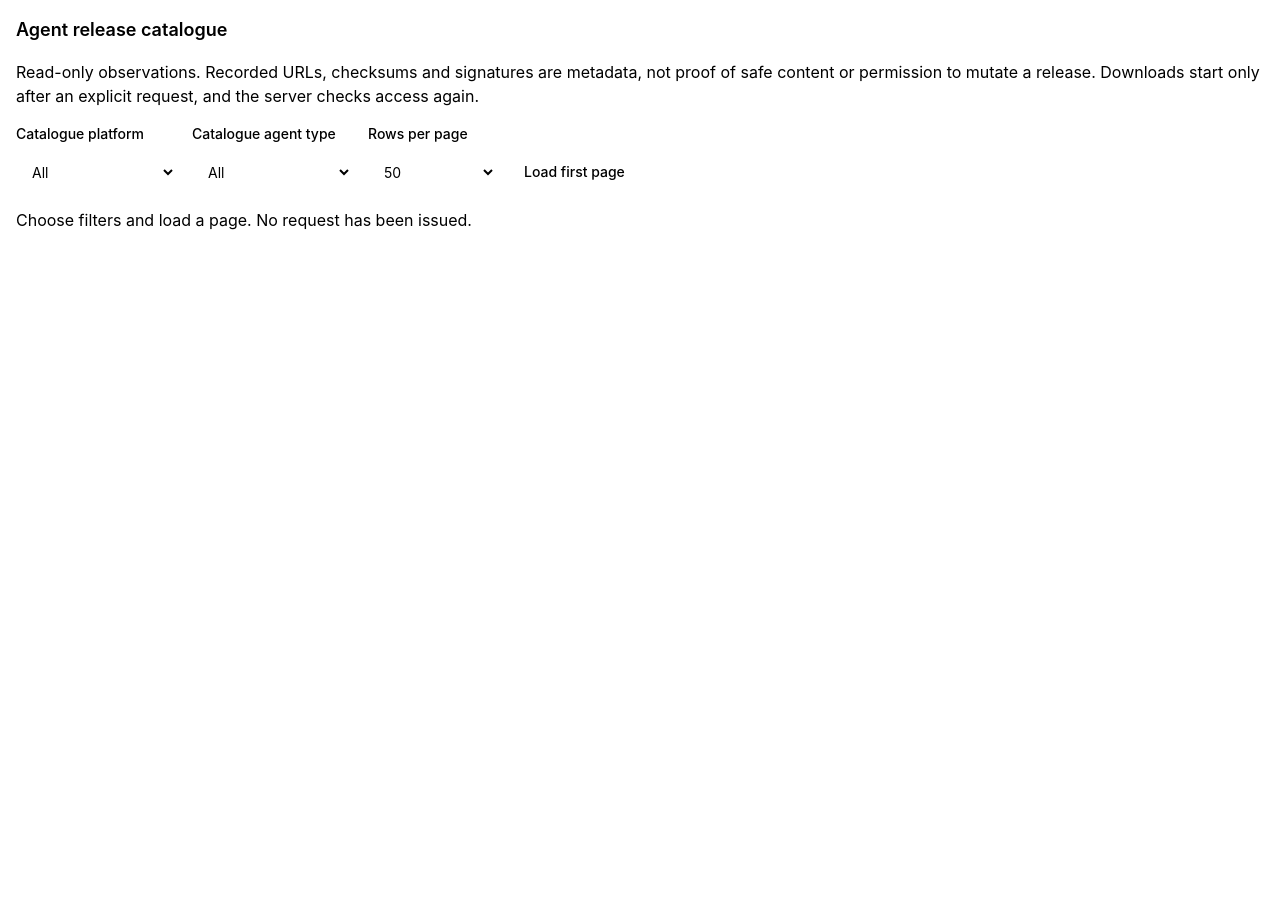
Test: advances with exact paired cursor and filters and replaces rather than accumulates page rows
Select "linux" in the dropdown labelled "Catalogue platform" at coordinates (96, 172), box [16,152,176,192]
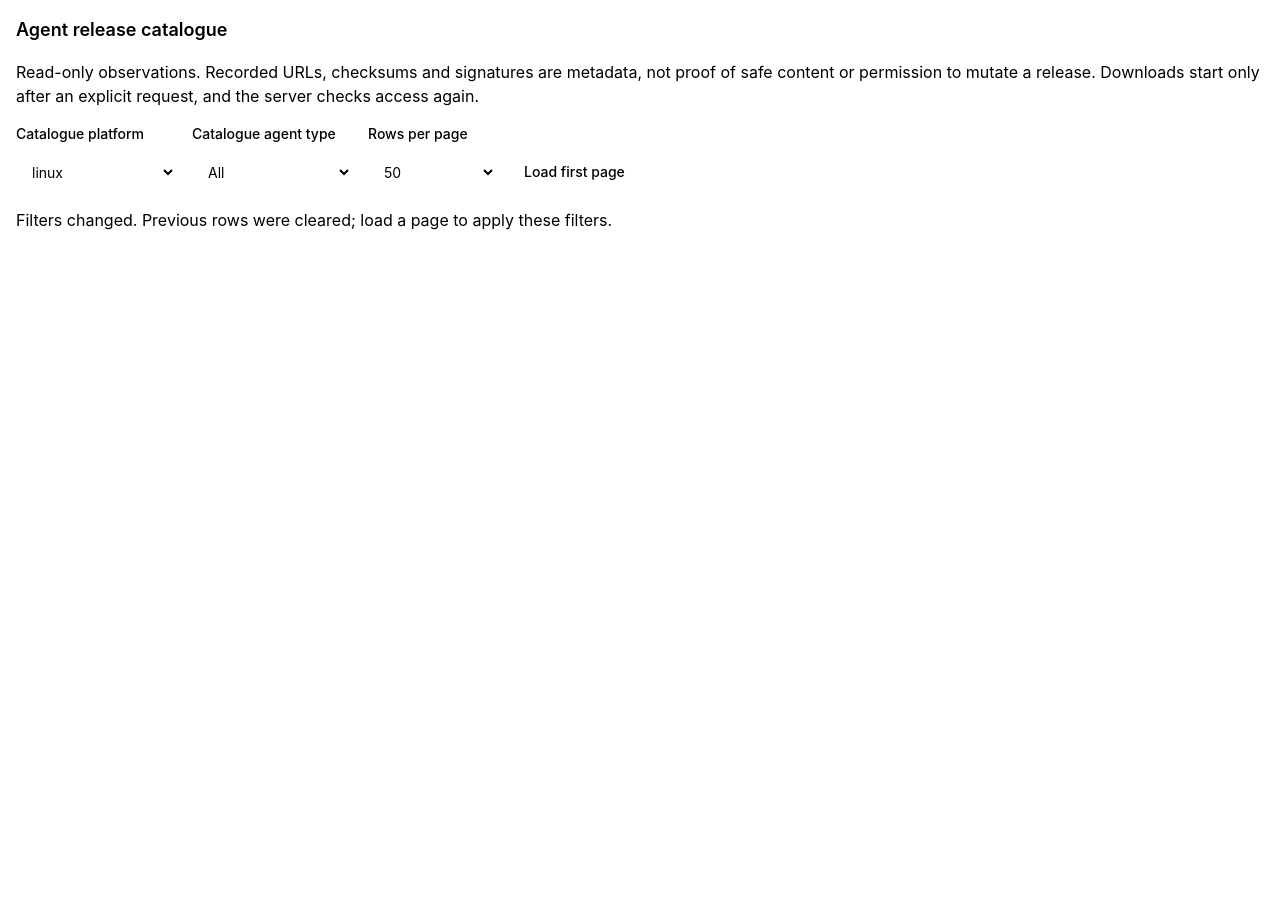
Select "daemon" in the dropdown labelled "Catalogue agent type" at coordinates (272, 172), box [192,152,352,192]
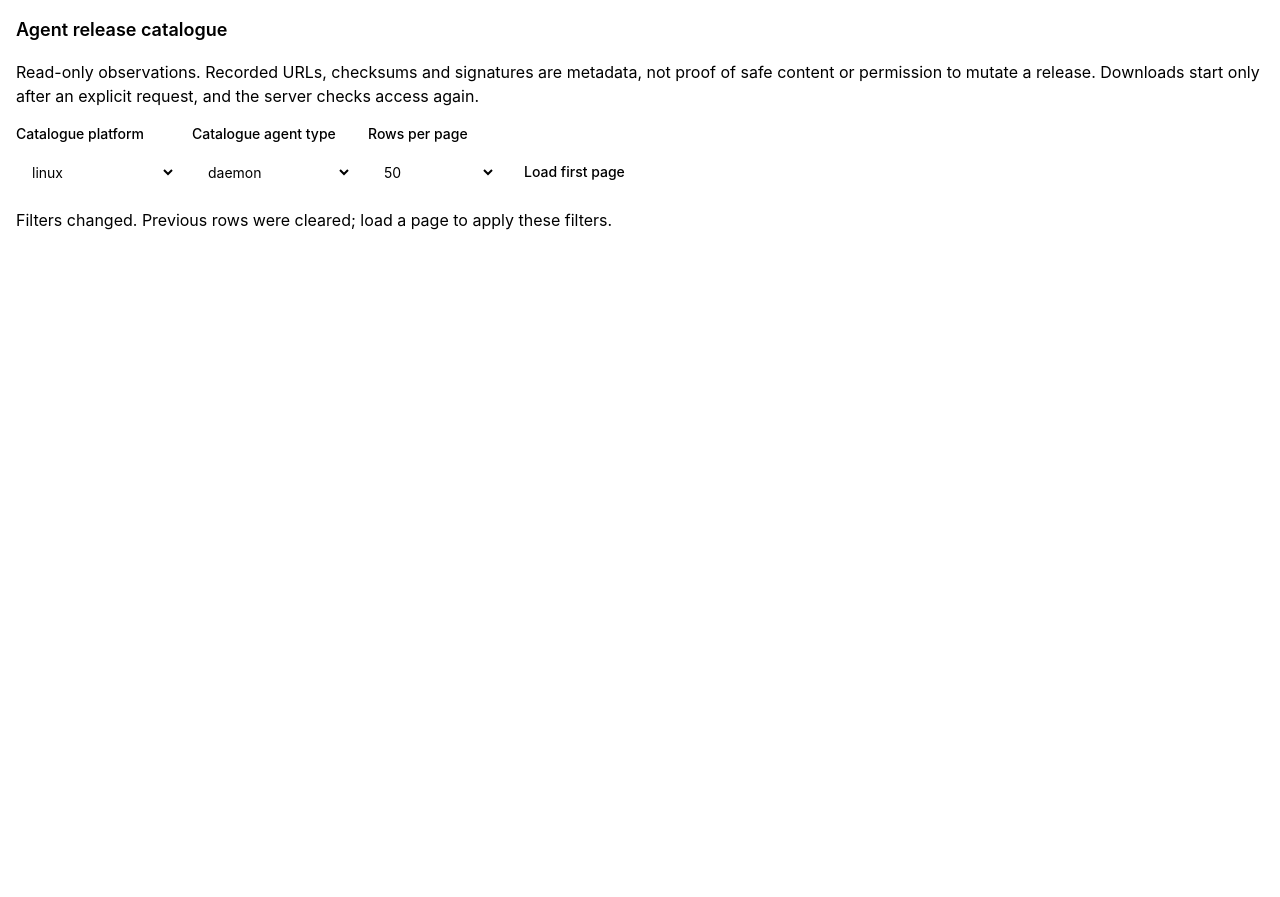
Select "10" in the dropdown labelled "Rows per page" at coordinates (432, 172), box [368,152,496,192]
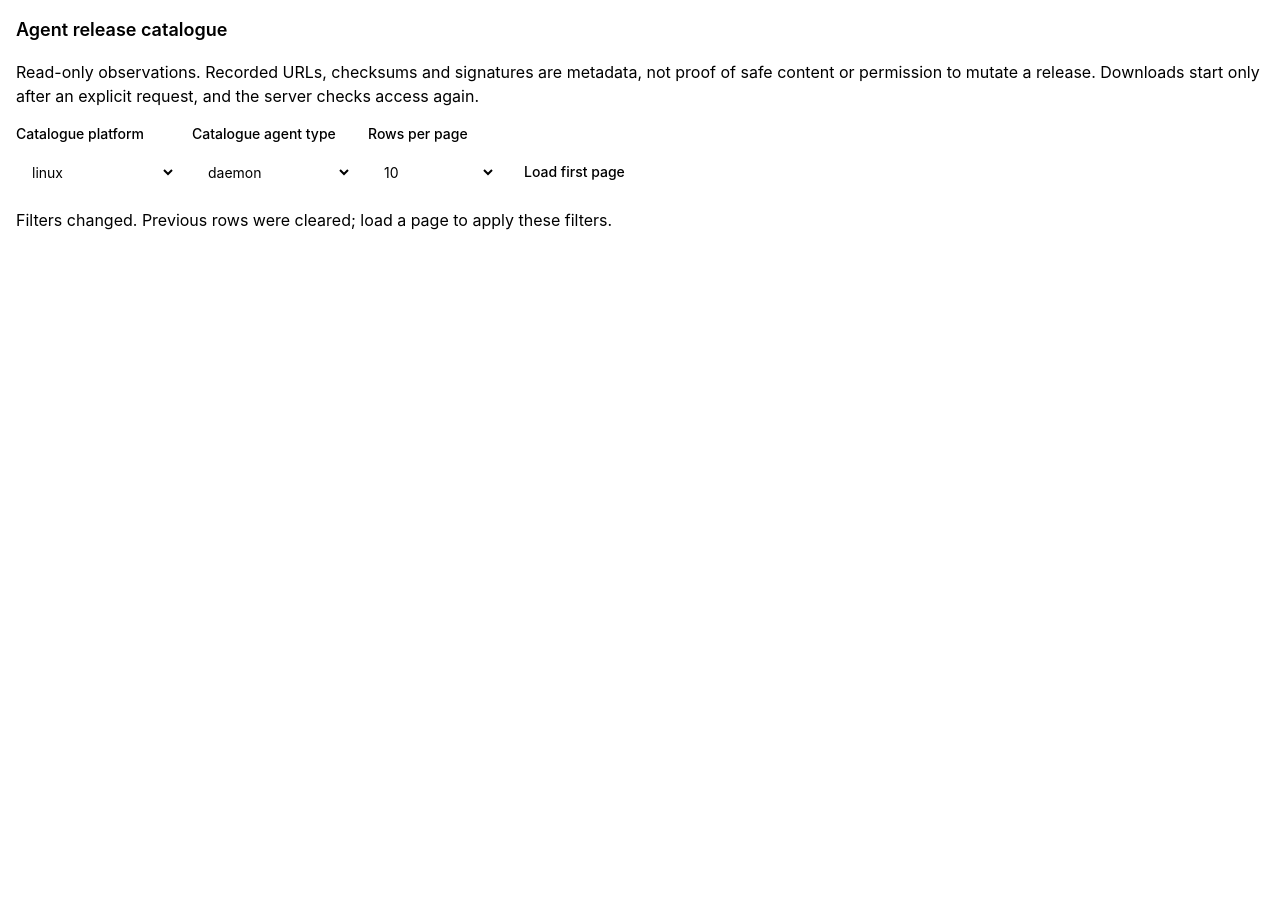
Click the button "Load first page" at coordinates (574, 172), box [512,152,637,192]
(page scrolled)
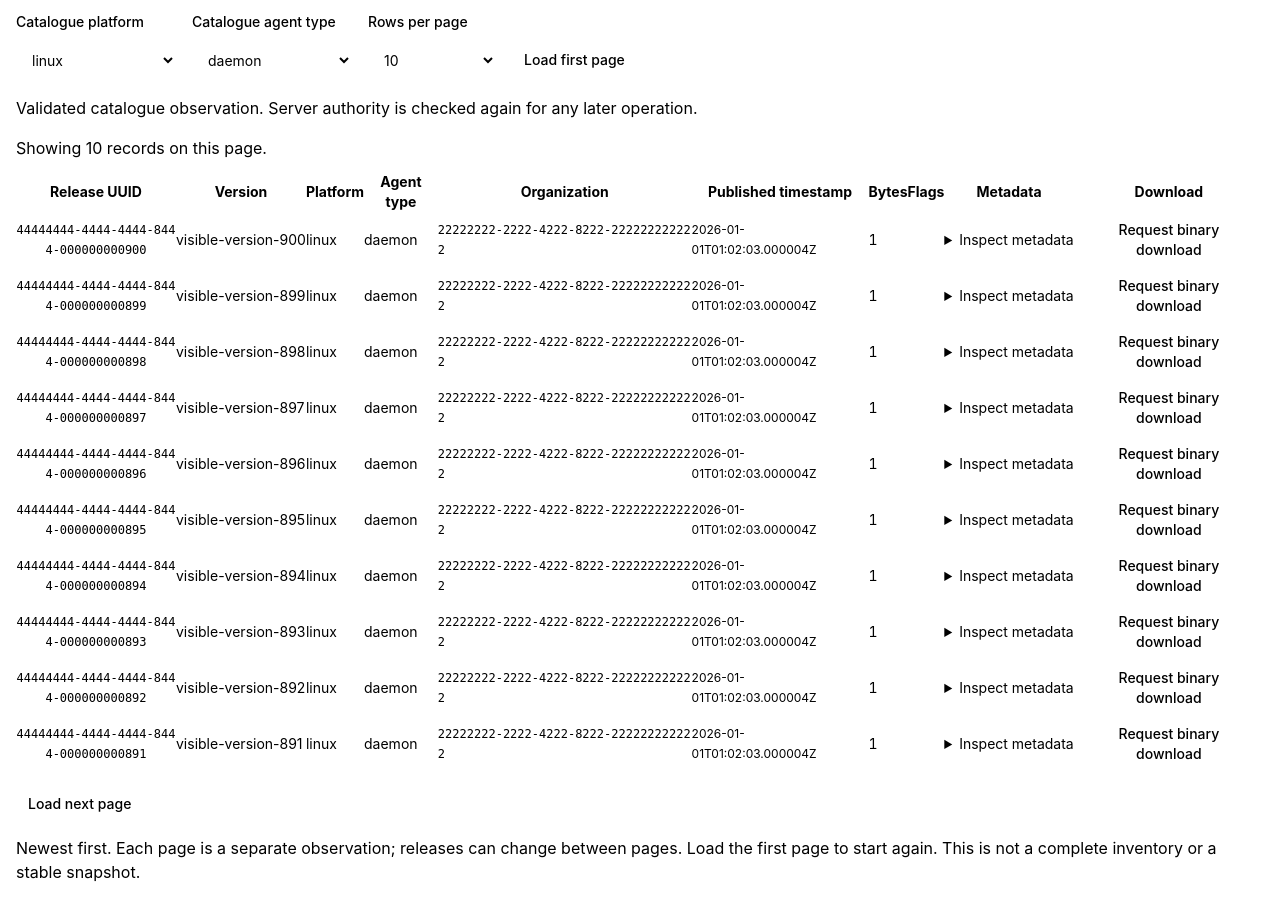
Check: the text "visible-version-891" is shown, box [176,716,306,772]
Click the button "Load next page" at coordinates (80, 804), box [16,784,143,824]
(page scrolled)
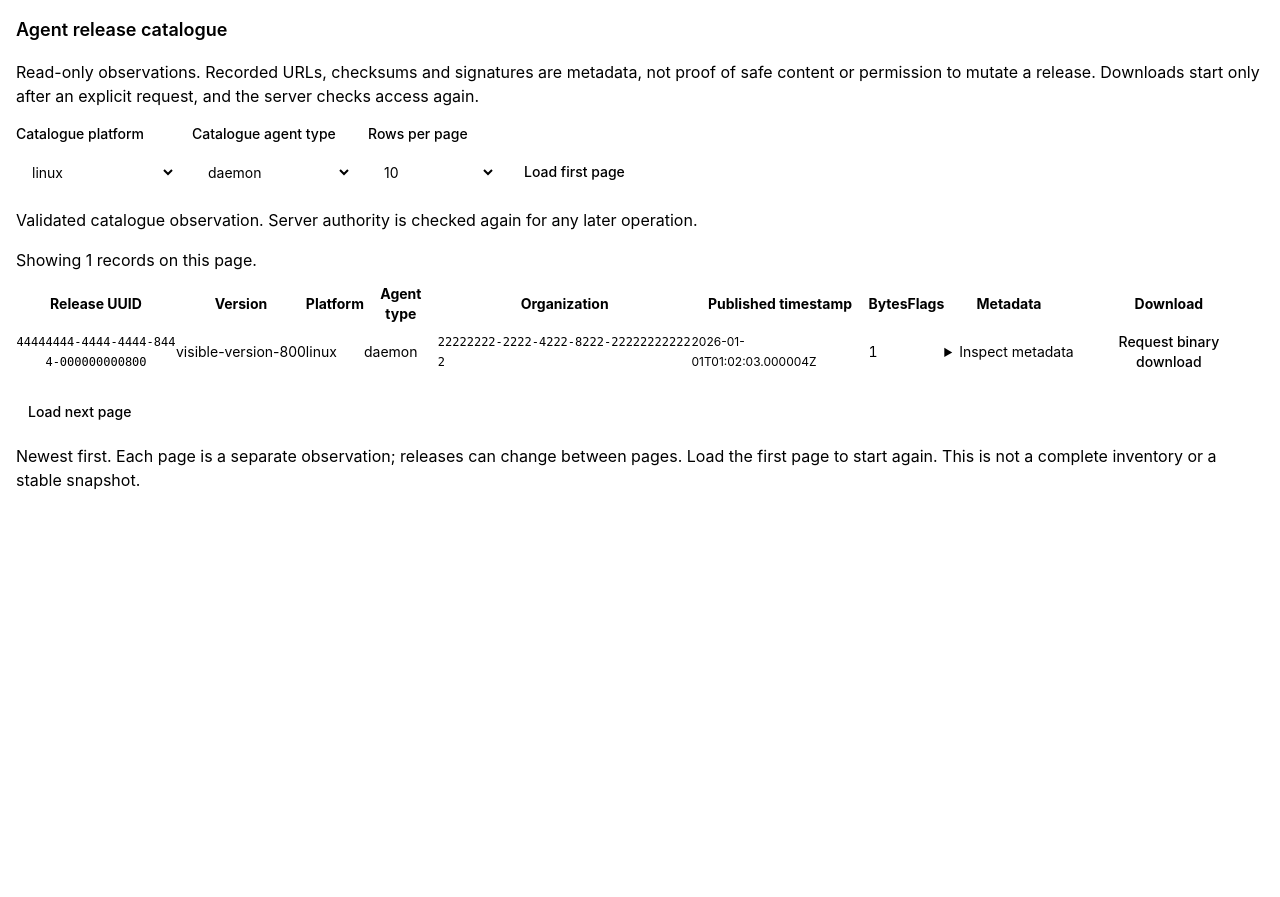
Check: the text "visible-version-800" is shown, box [176,324,306,380]
Check: the text "visible-version-900" is gone
Click the button "Load first page" at coordinates (574, 172), box [512,152,637,192]
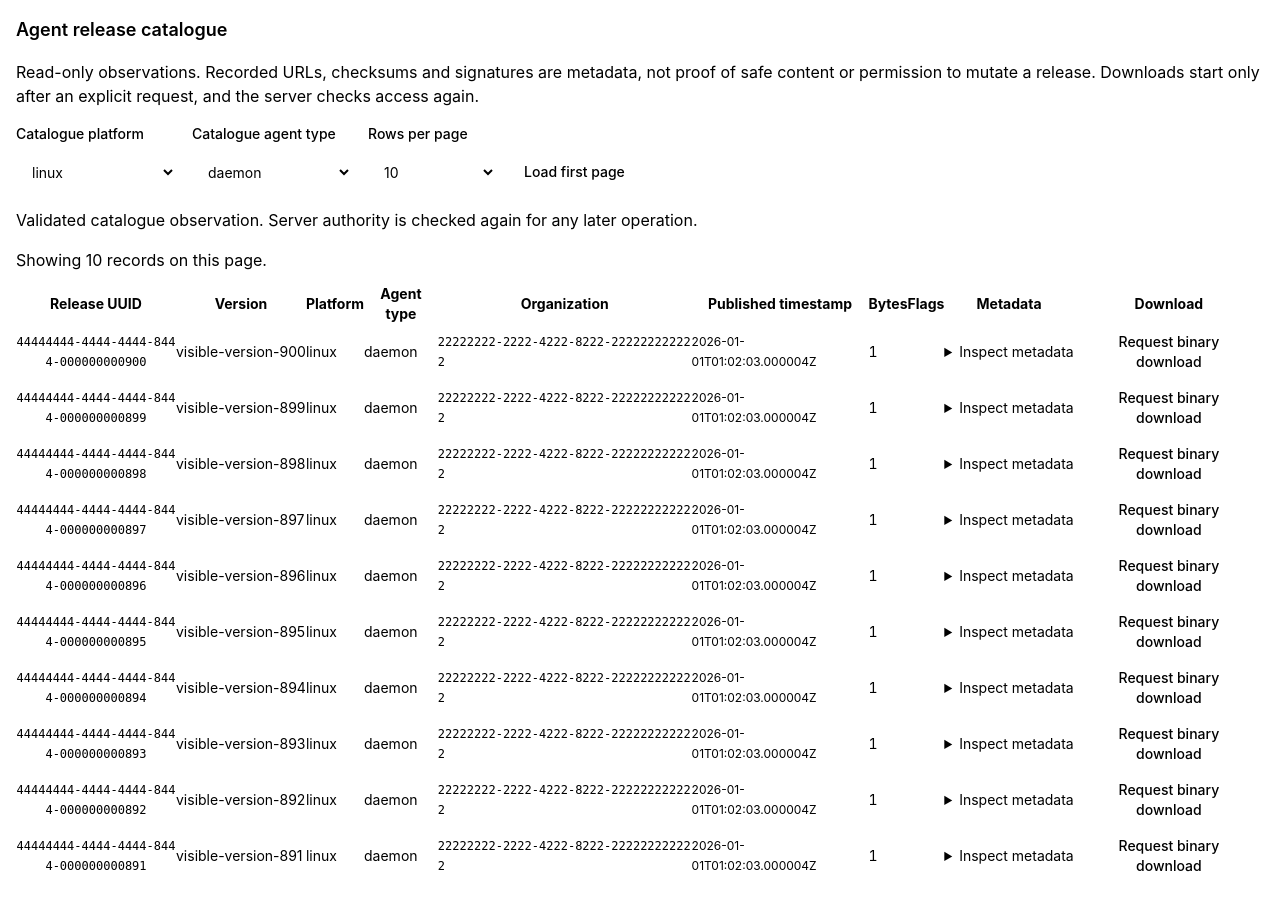
Check: the text "visible-version-900" is shown, box [176,324,306,380]
